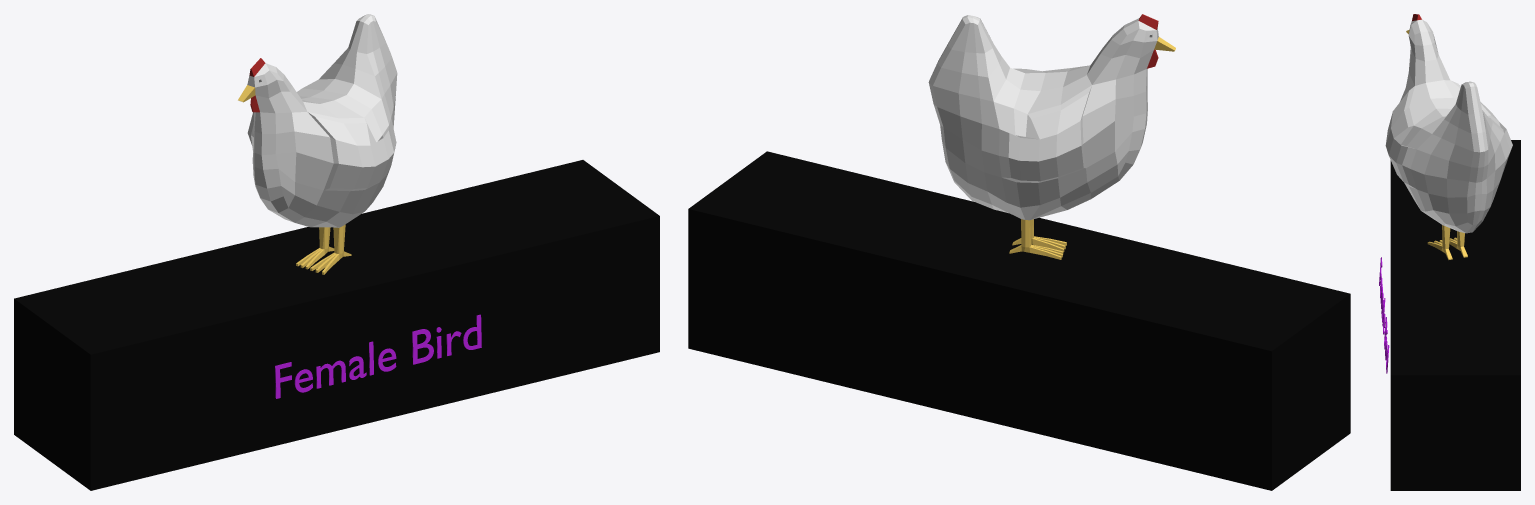
File: femalechicken.gltf
3 views of the same model, side by side, from view 1: azimuth 30°, elevation 25°; view 2: azimuth 150°, elevation 25°; view 3: azimuth 270°, elevation 25° (orthographic). The views are drawn at different scales.
Parts seen in each view (by area): view 1: Cube.007, Chicken.001, Text.006; view 2: Cube.007, Chicken.001; view 3: Cube.007, Chicken.001, Text.006.
Boxes of the visible parts, bbox=[...] form: Cube.007: bbox=[14, 160, 659, 490]; Chicken.001: bbox=[238, 14, 397, 274]; Text.006: bbox=[275, 314, 481, 398]; Cube.007: bbox=[688, 151, 1350, 490]; Chicken.001: bbox=[928, 14, 1175, 259]; Cube.007: bbox=[1390, 140, 1520, 490]; Chicken.001: bbox=[1385, 14, 1512, 259]; Text.006: bbox=[1379, 257, 1389, 373].
Size of the model in its own units: 3.34 by 2.1 by 0.8509.
